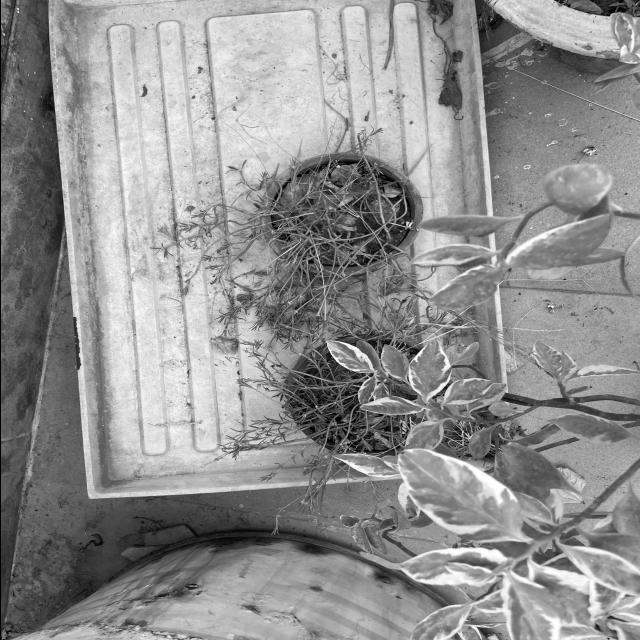Breeding Place: (264, 330, 466, 466), (248, 152, 421, 282)
